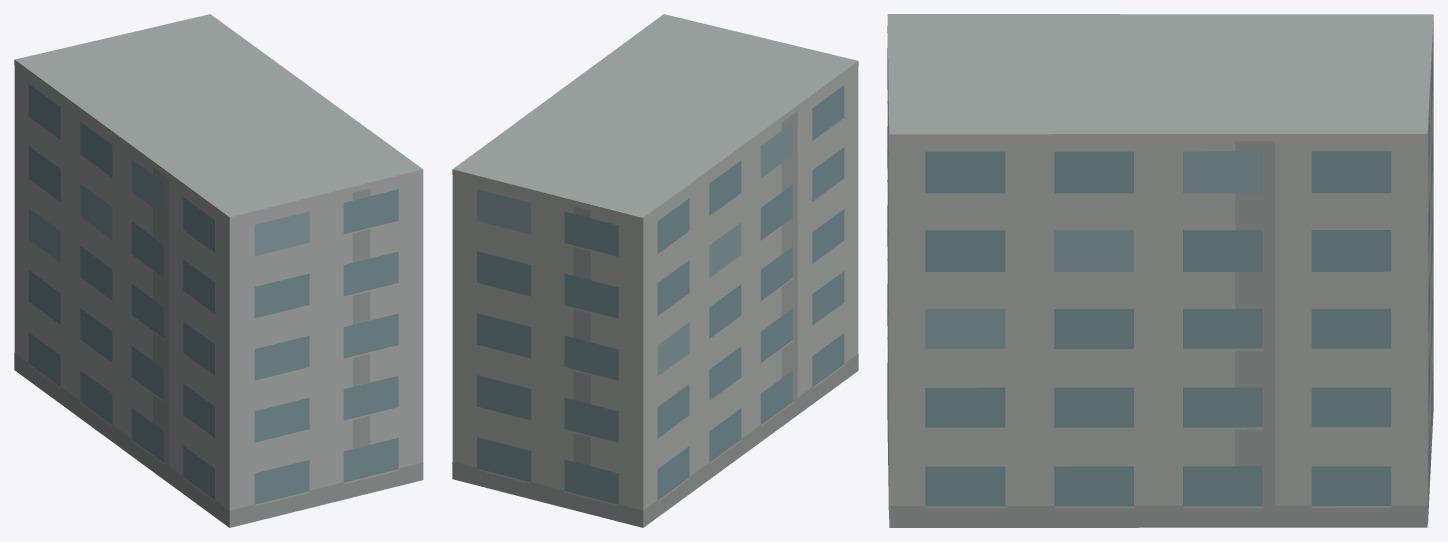
The model's file is survey-upis-32638597.glb.
The picture shows the model from 3 angles, left to right: view 1: azimuth 30°, elevation 25°; view 2: azimuth 150°, elevation 25°; view 3: azimuth 270°, elevation 25°; orthographic projection. The views are drawn at different scales.
Parts seen in each view (by area): view 1: survey-upis-32638597.tmp; view 2: survey-upis-32638597.tmp; view 3: survey-upis-32638597.tmp.
Part boxes in pixels (x1,y1,x2,y2): survey-upis-32638597.tmp: (14,14,423,527); survey-upis-32638597.tmp: (452,14,858,527); survey-upis-32638597.tmp: (887,14,1433,527).
Size of the model in its own units: 8.54 by 13 by 16.36.
